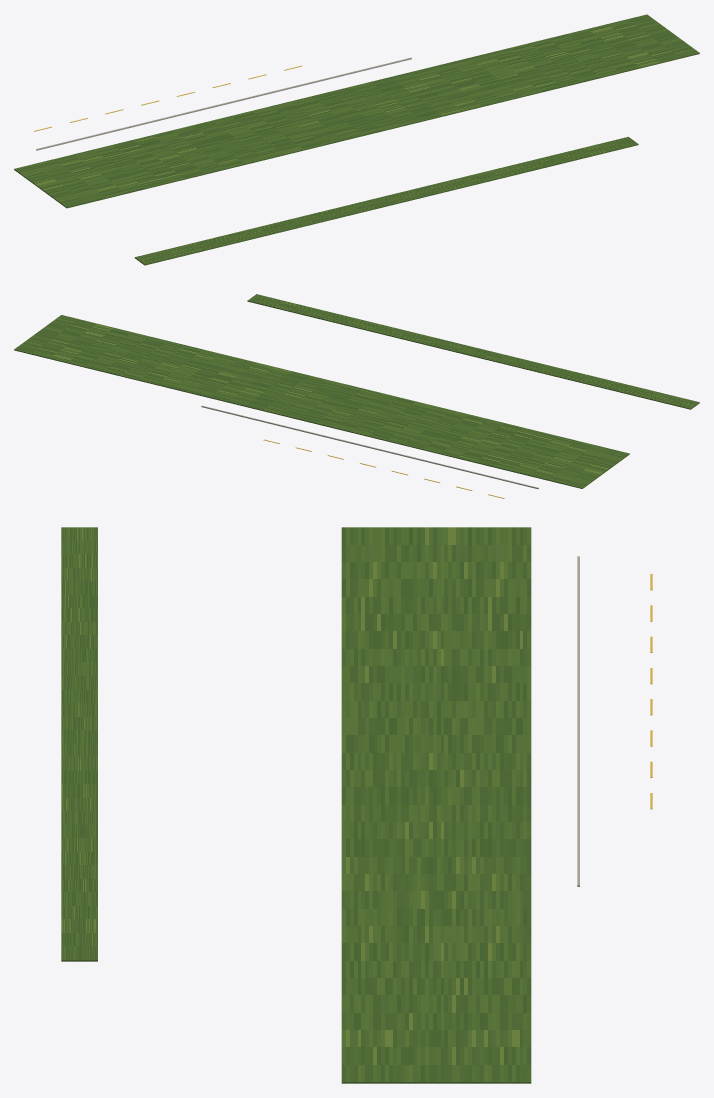
The model's file is structure.glb.
The picture shows the model from 3 angles, top to bottom: view 1: azimuth 30°, elevation 25°; view 2: azimuth 150°, elevation 25°; view 3: azimuth 270°, elevation 25°; orthographic projection. The views are drawn at different scales.
Parts seen in each view (by area): view 1: Box1, Box2, Box11; view 2: Box1, Box2, Box11; view 3: Box1, Box2, Box11.
Boxes of the visible parts, x1,y1,x2,y2 form: Box1: (14, 14, 699, 208); Box2: (134, 137, 638, 265); Box11: (36, 57, 411, 150); Box1: (14, 315, 629, 488); Box2: (247, 294, 699, 409); Box11: (201, 405, 538, 488); Box1: (341, 527, 531, 1083); Box2: (61, 527, 97, 961); Box11: (577, 556, 579, 886).
Size of the model in its own units: 70.88 by 0.225 by 31.91.
3 materials, 1 textured.
